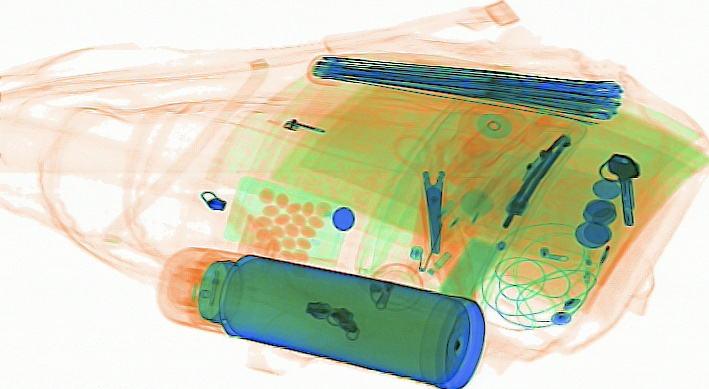scissors: (391, 117, 472, 264)
